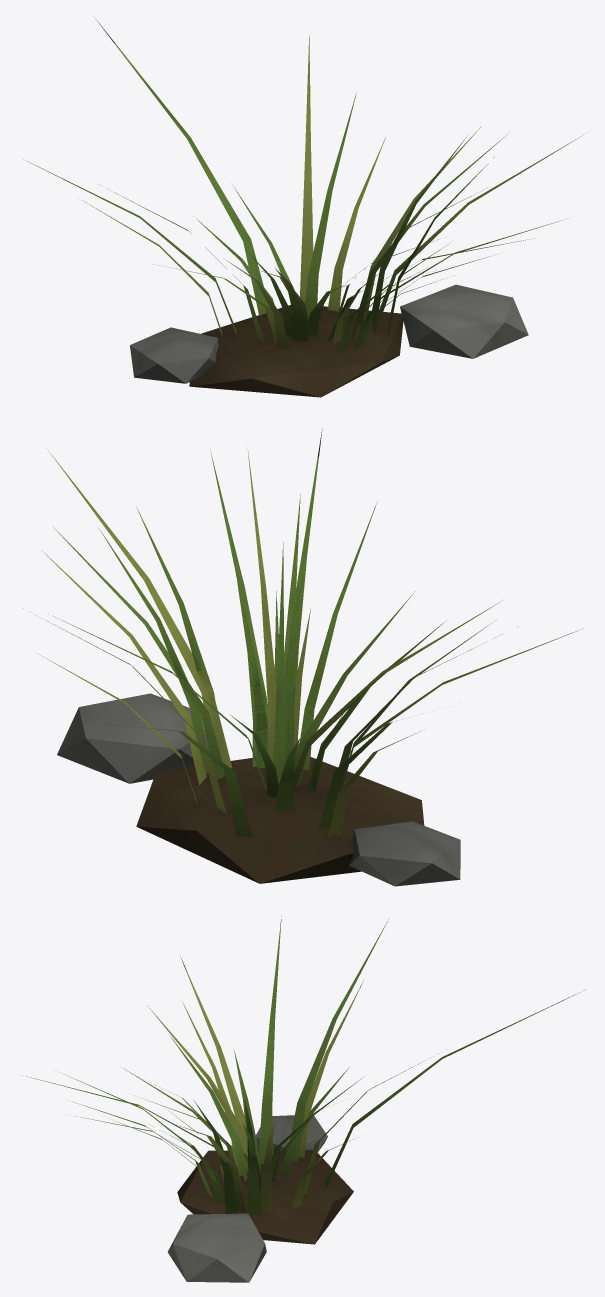
File: bg_swamp_reeds_2_lod0.glb
3 views of the same model, one above another, from view 1: azimuth 30°, elevation 25°; view 2: azimuth 150°, elevation 25°; view 3: azimuth 270°, elevation 25° (orthographic). The views are drawn at different scales.
Parts seen in each view (by area): view 1: sway; view 2: sway; view 3: sway.
Part boxes in pixels (x1,y1,x2,y2): sway: [23, 19, 582, 397]; sway: [23, 429, 578, 886]; sway: [27, 916, 584, 1282].
Bounding box in the file's own units: 1.99 × 1 × 2.36.
1 material, 1 textured.
